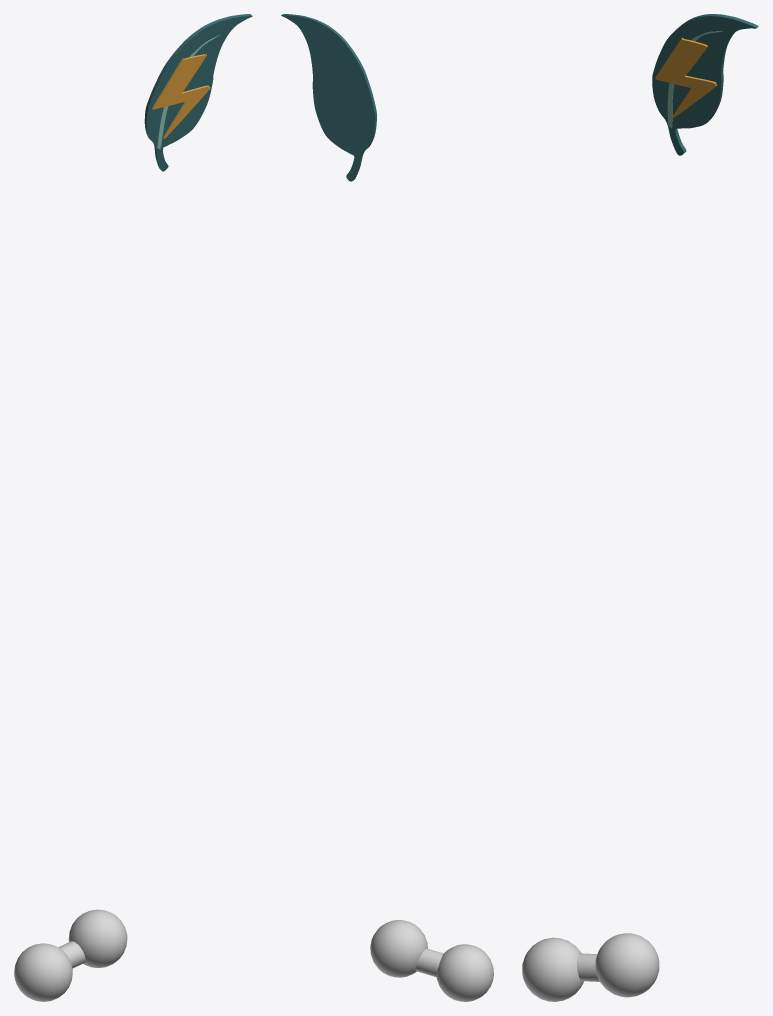
3 views of the same model, side by side, from view 1: azimuth 30°, elevation 25°; view 2: azimuth 150°, elevation 25°; view 3: azimuth 330°, elevation 25° (orthographic). The views are drawn at different scales.
Visible parts, largest first — view 1: h2, path182, path186; view 2: path182, h2; view 3: h2, path182, path186.
Boxes of the visible parts, x1=… form: h2: x1=14, y1=909, x2=127, y2=1001; path182: x1=144, y1=14, x2=252, y2=171; path186: x1=152, y1=54, x2=210, y2=139; path182: x1=281, y1=14, x2=376, y2=181; h2: x1=370, y1=920, x2=493, y2=1001; h2: x1=522, y1=933, x2=659, y2=1001; path182: x1=652, y1=14, x2=758, y2=155; path186: x1=655, y1=37, x2=717, y2=118.
Size of the model in its own units: 1.31 by 5.33 by 0.3631.
